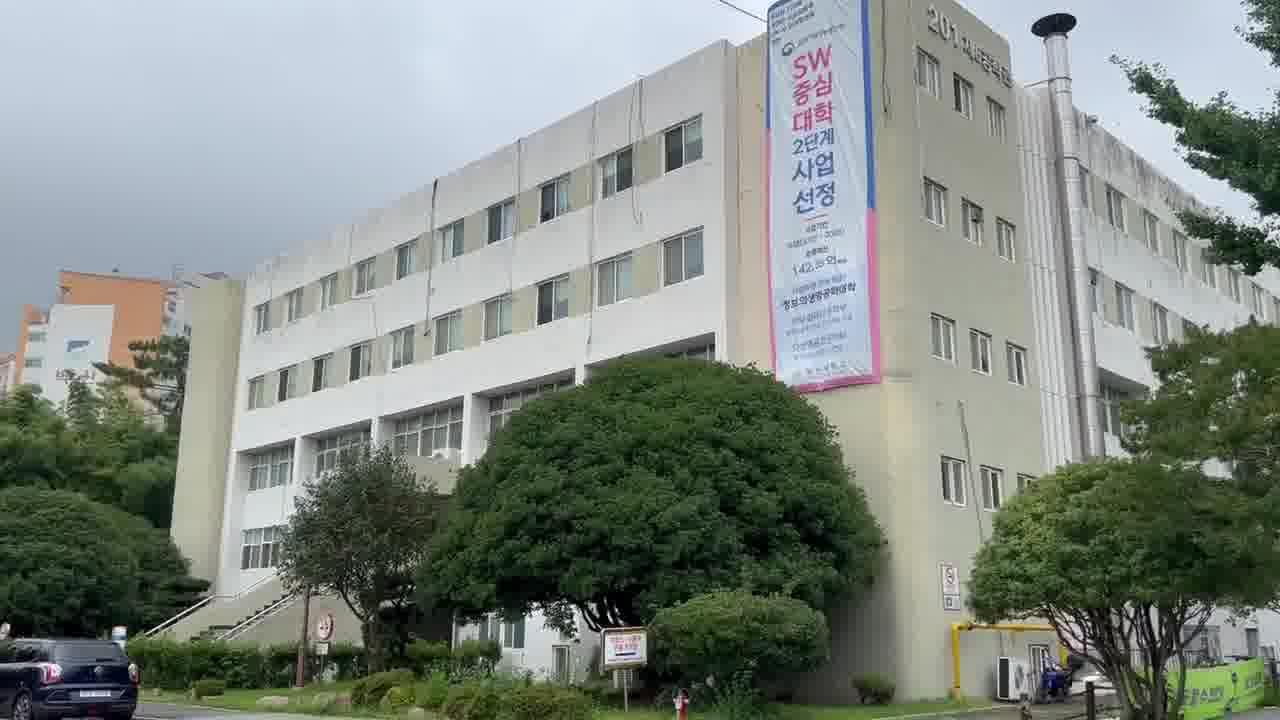building: (186, 79, 757, 377)
